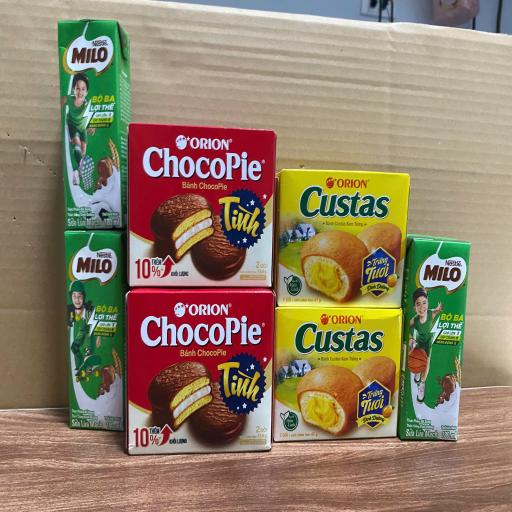chocopie: (126, 287, 276, 454), (127, 122, 277, 287)
custas: (273, 168, 410, 308), (273, 305, 403, 442)
milo: (58, 18, 130, 232), (396, 234, 470, 442), (65, 229, 128, 432)
